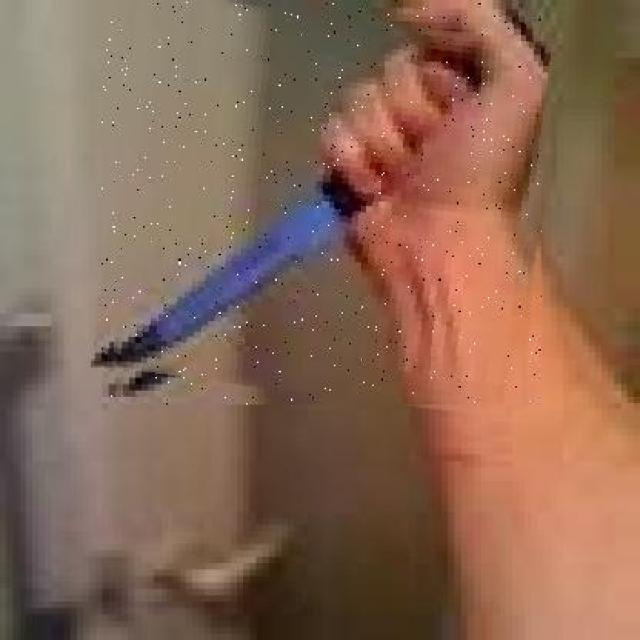knife: (102, 0, 542, 405)
